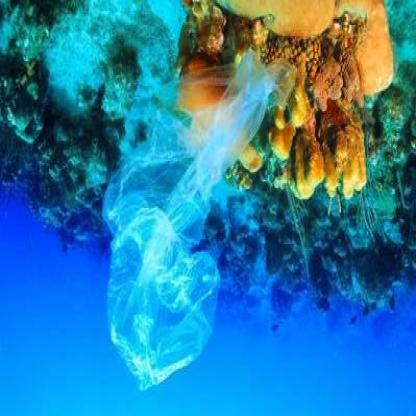pbag: (92, 39, 295, 396)
